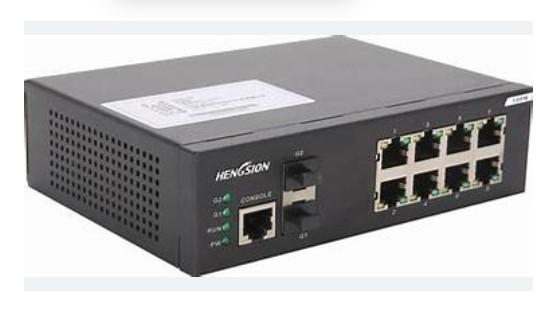NetworkSwitch: (26, 35, 535, 279)
